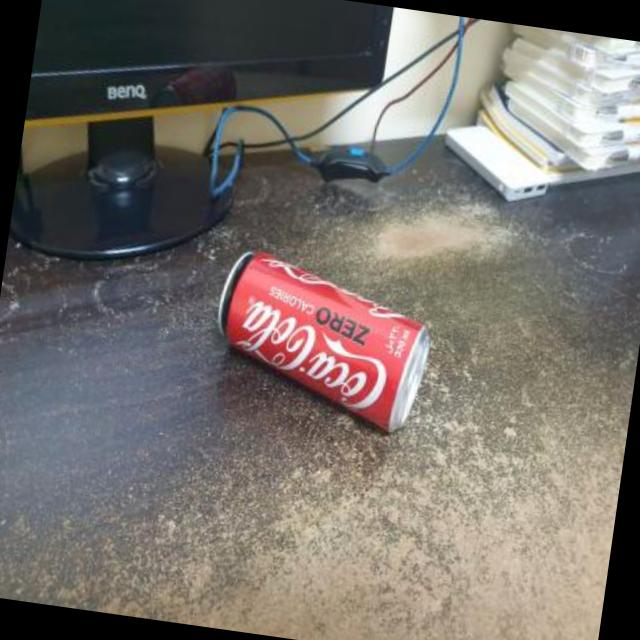metal: (217, 250, 427, 427)
